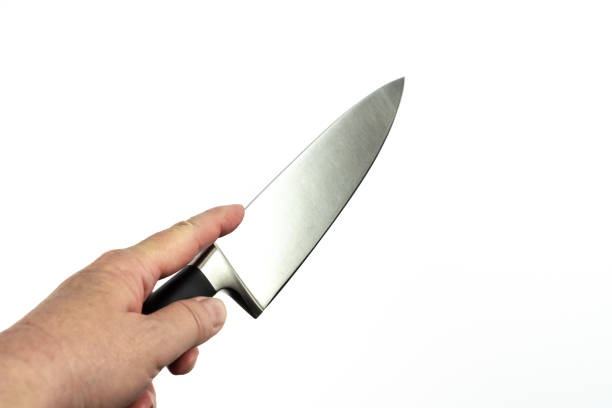knife: (134, 76, 406, 322)
